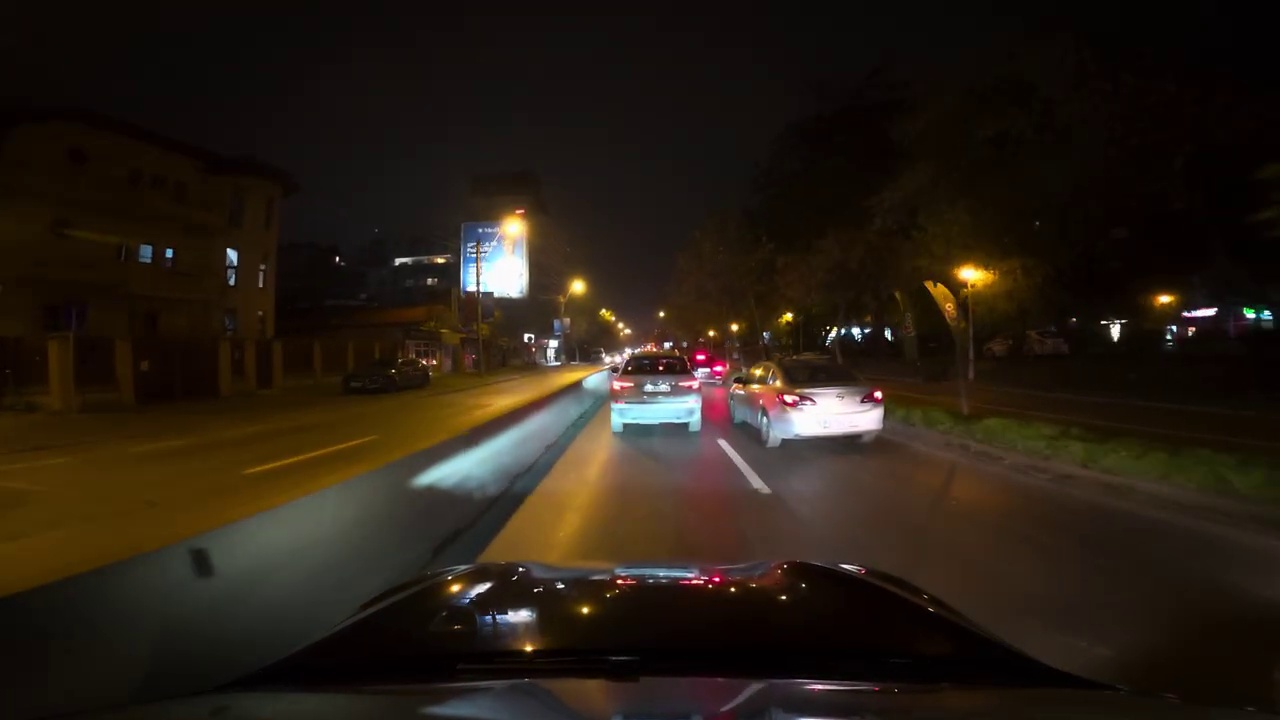acesa: (955, 263, 995, 292), (499, 212, 529, 243), (565, 276, 591, 299)
